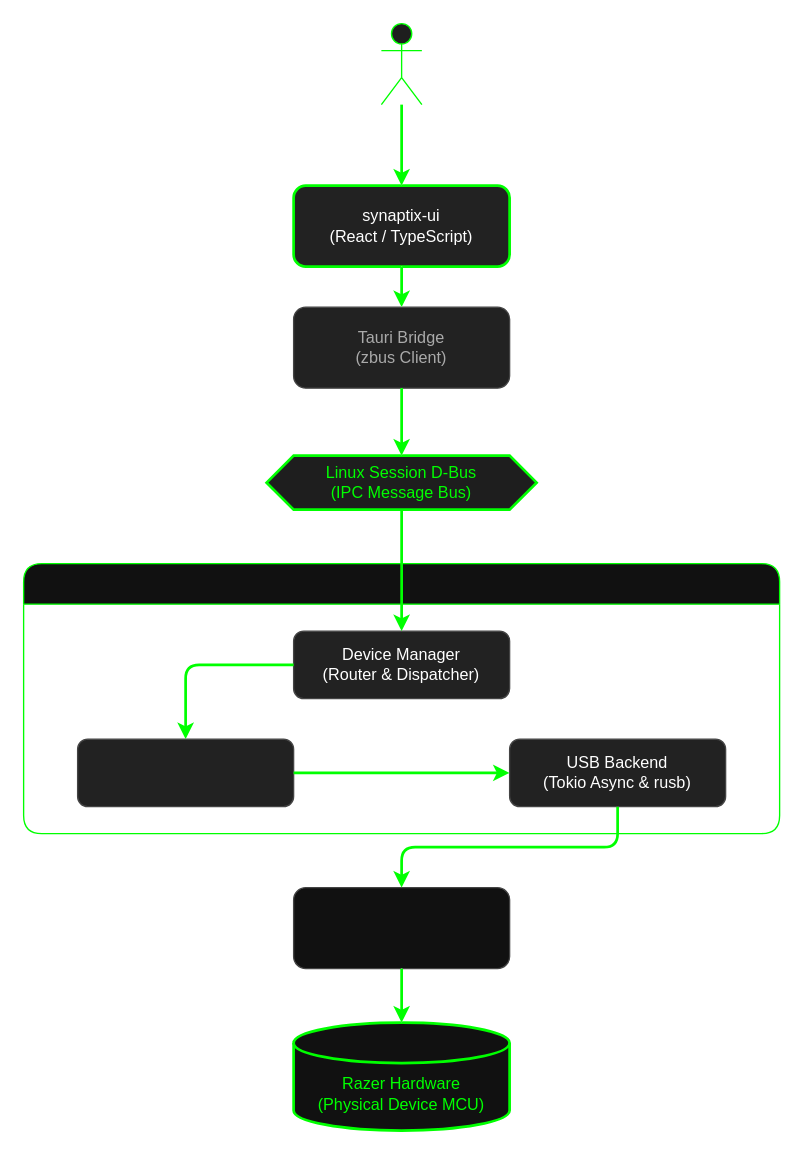
Image size: 803x1156. Some labels were removed from this diagram. Here are the shapes that lost their labels. From the top down, the box of each, then its label:
(22, 562, 780, 834): synaptix-daemon (Background Systemd User Service)
(76, 738, 294, 807): Protocol Layer (Registry, Checksum)
(292, 886, 510, 969): Kernel & OS Space (udev, libusb, /dev/hidraw)
